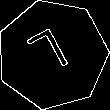L_SE: (27, 25, 79, 84)
